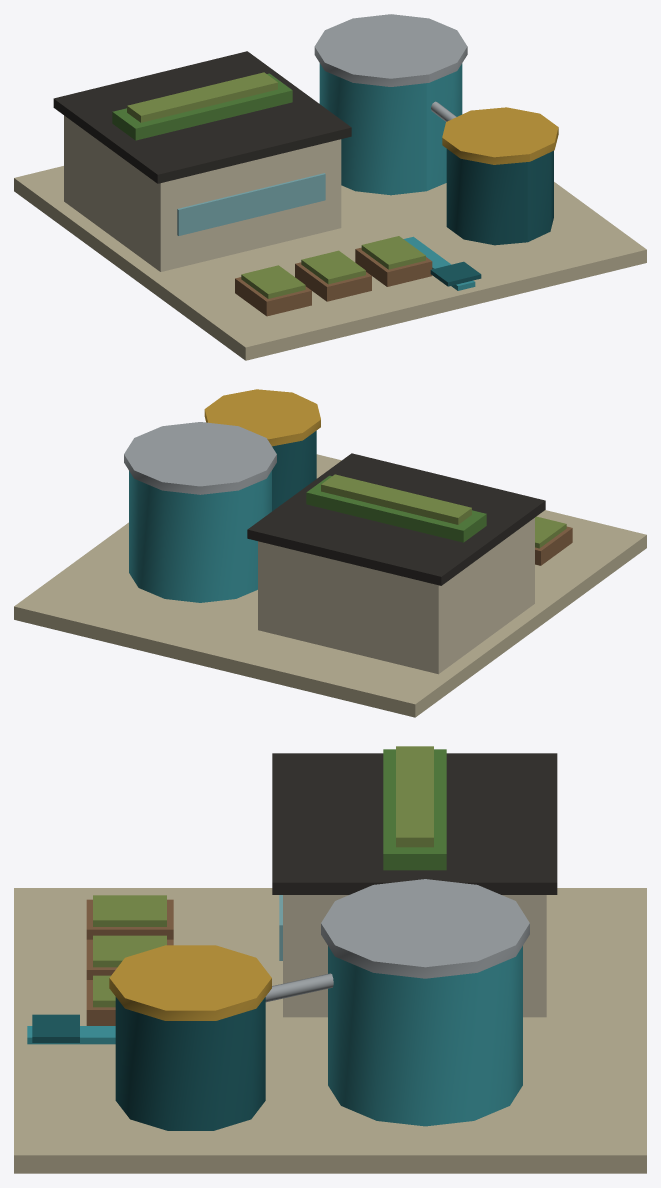
File: b04-aquaworks-v2-lod0.glb
The picture shows the model from 3 angles, top to bottom: view 1: azimuth 30°, elevation 25°; view 2: azimuth 150°, elevation 25°; view 3: azimuth 270°, elevation 25°; orthographic projection. The views are drawn at different scales.
Visible parts, largest first — view 1: MESH_B04_AQUAWORKS; view 2: MESH_B04_AQUAWORKS; view 3: MESH_B04_AQUAWORKS.
Part boxes in pixels (x1,y1,x2,y2): MESH_B04_AQUAWORKS: (14, 14, 646, 360); MESH_B04_AQUAWORKS: (14, 389, 646, 717); MESH_B04_AQUAWORKS: (14, 746, 646, 1173).
Bounding box in the file's own units: 12 × 3.83 × 12.
